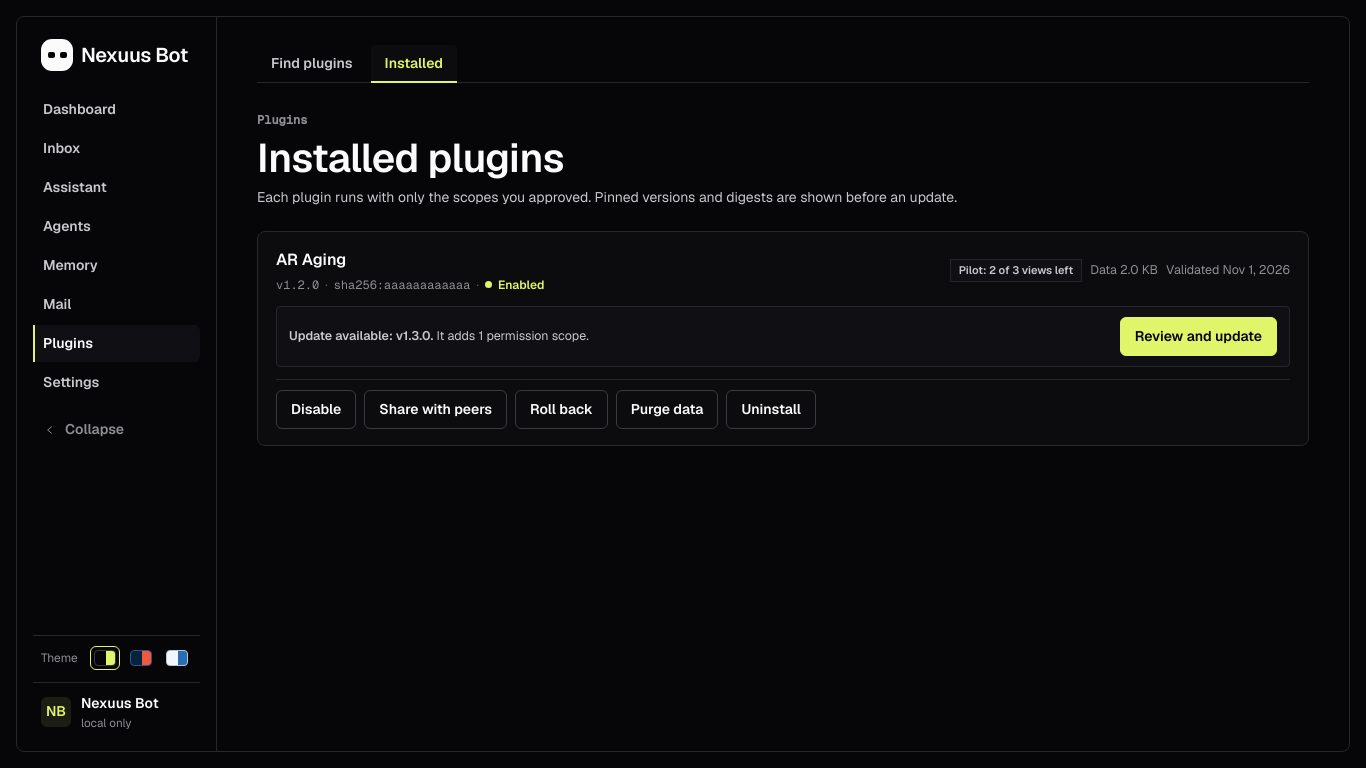
installed plugins › reviews an update, shows the added scope, then accepts the staged consent
The width and height of the screenshot is (1366, 768).
Expected: the text "Update available: v1.3.0." is shown, top-left (289, 327), bottom-right (433, 344)
Click the button "Review and update" at (1198, 336), box top-left (1120, 317), bottom-right (1277, 356)
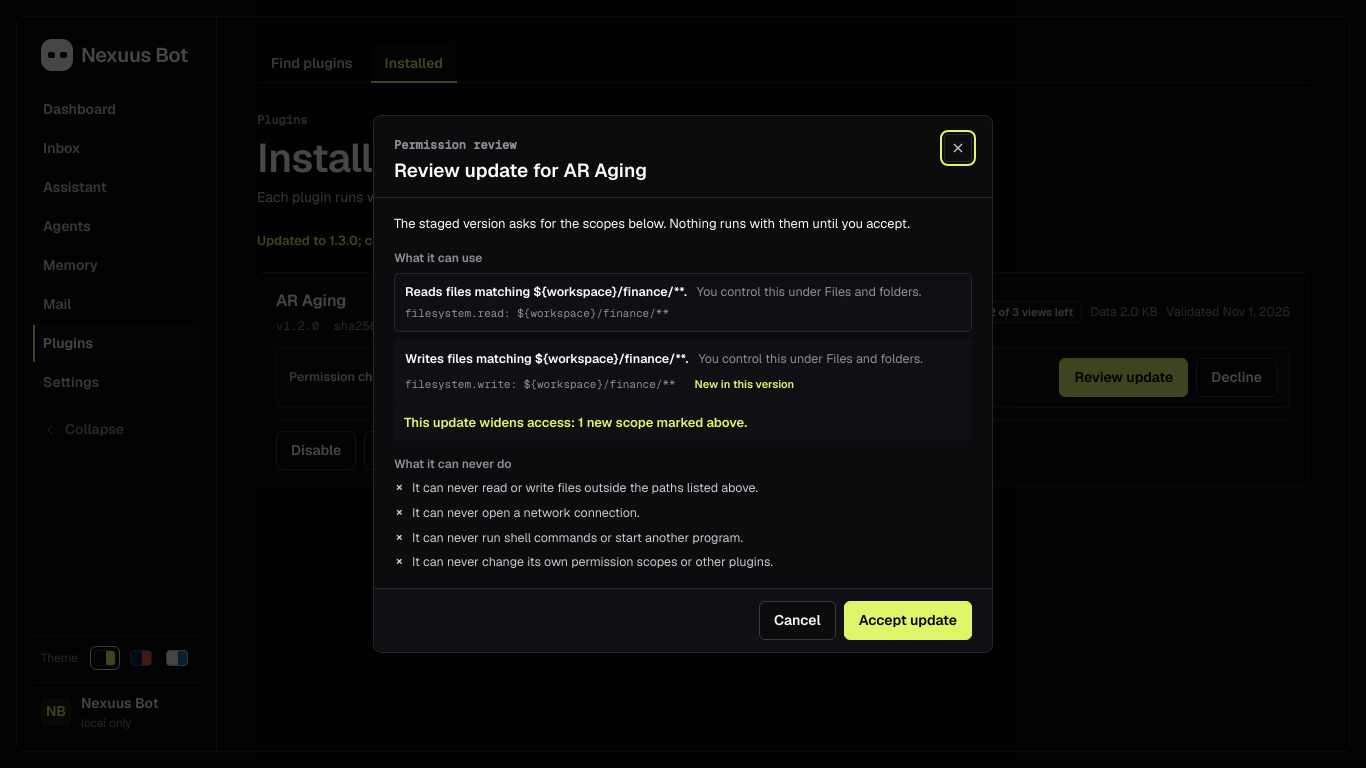
Now the text "New in this version" is shown, box top-left (686, 372), bottom-right (803, 395)
Now the text "Writes files matching ${workspace}/finance/**." is shown, box top-left (405, 350), bottom-right (688, 369)
Now the text "This update widens access: 1 new scope marked above." is shown, box top-left (394, 405), bottom-right (972, 441)
Click the button "Accept update" at (908, 621), box top-left (844, 601), bottom-right (972, 640)
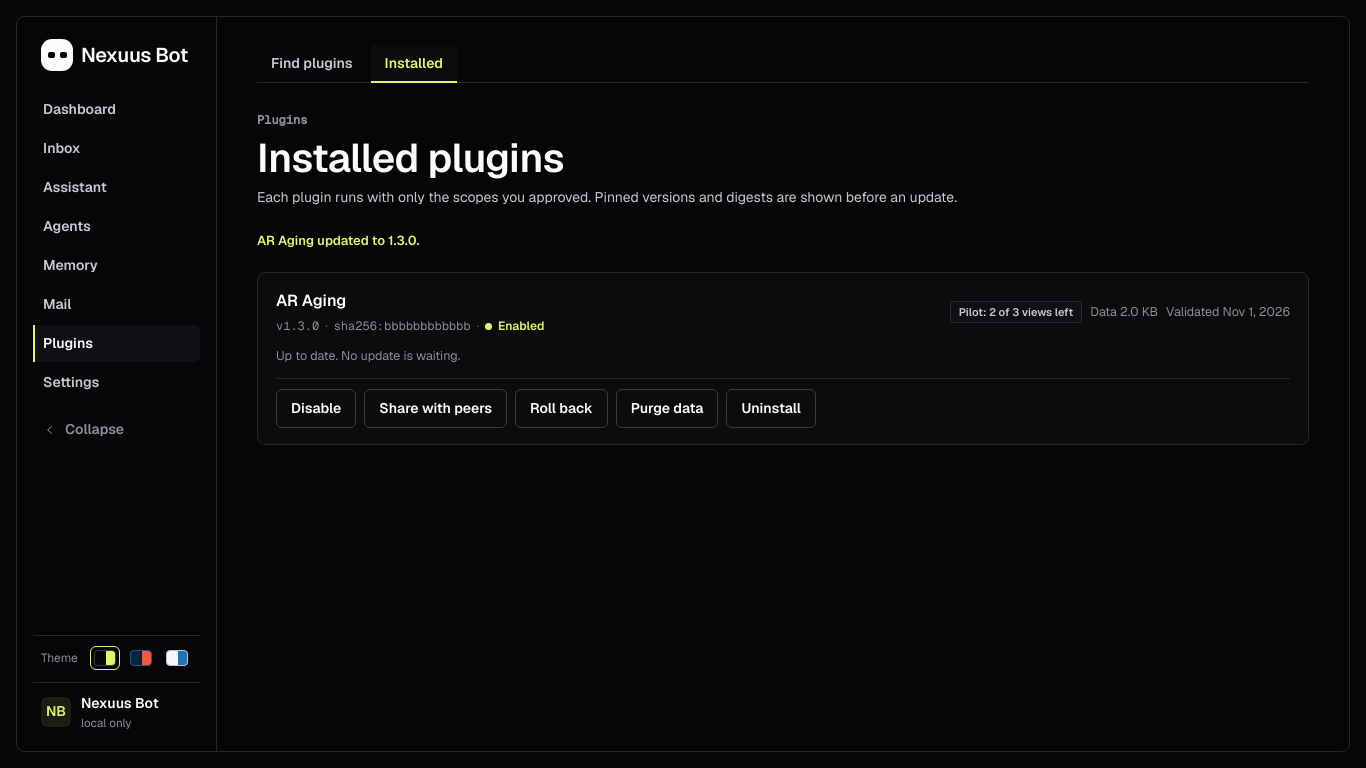
Now the text "AR Aging updated to 1.3.0." is shown, box top-left (257, 232), bottom-right (420, 249)
Now the dialog is gone
